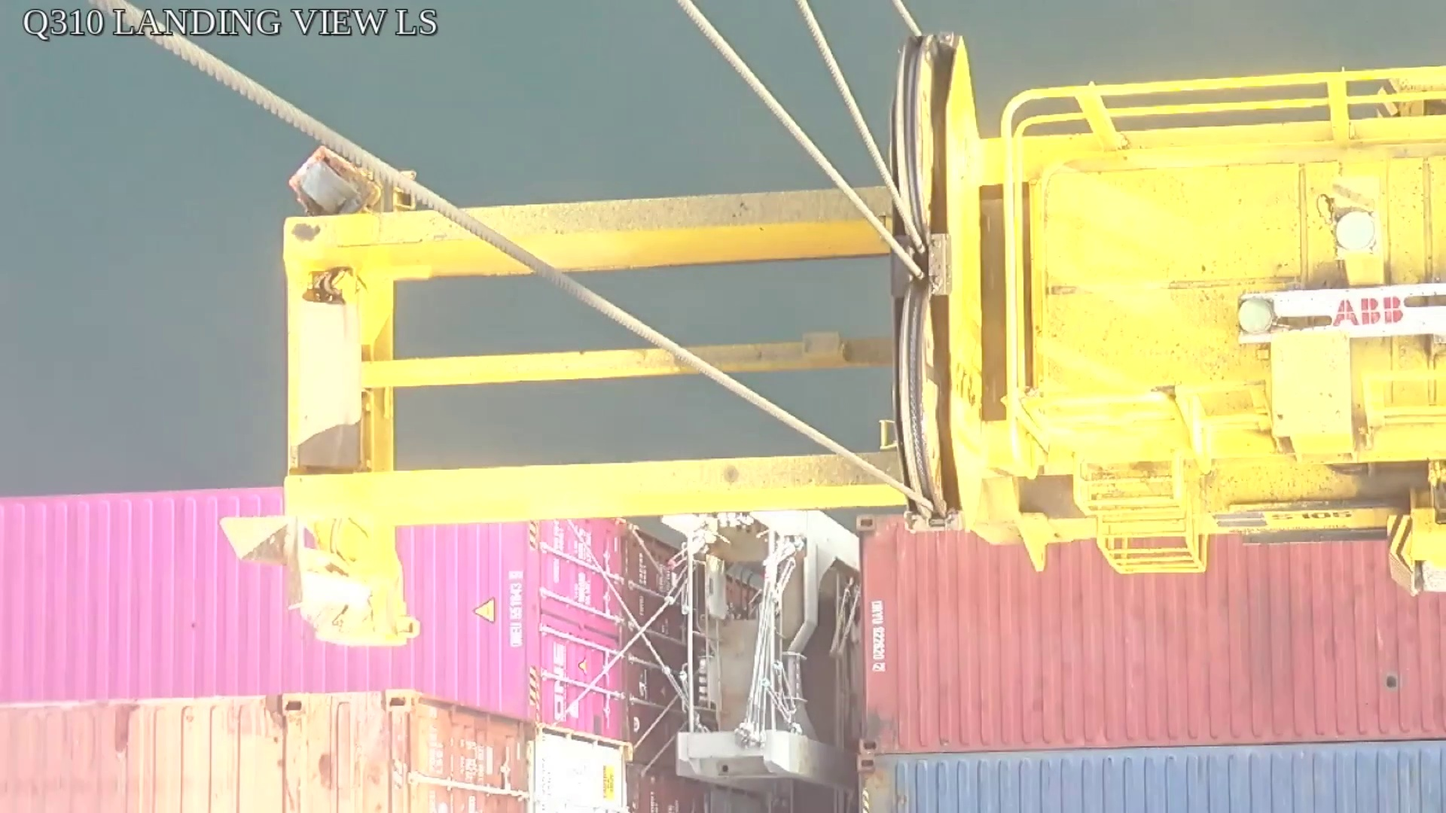aa: (891, 32, 994, 534)
